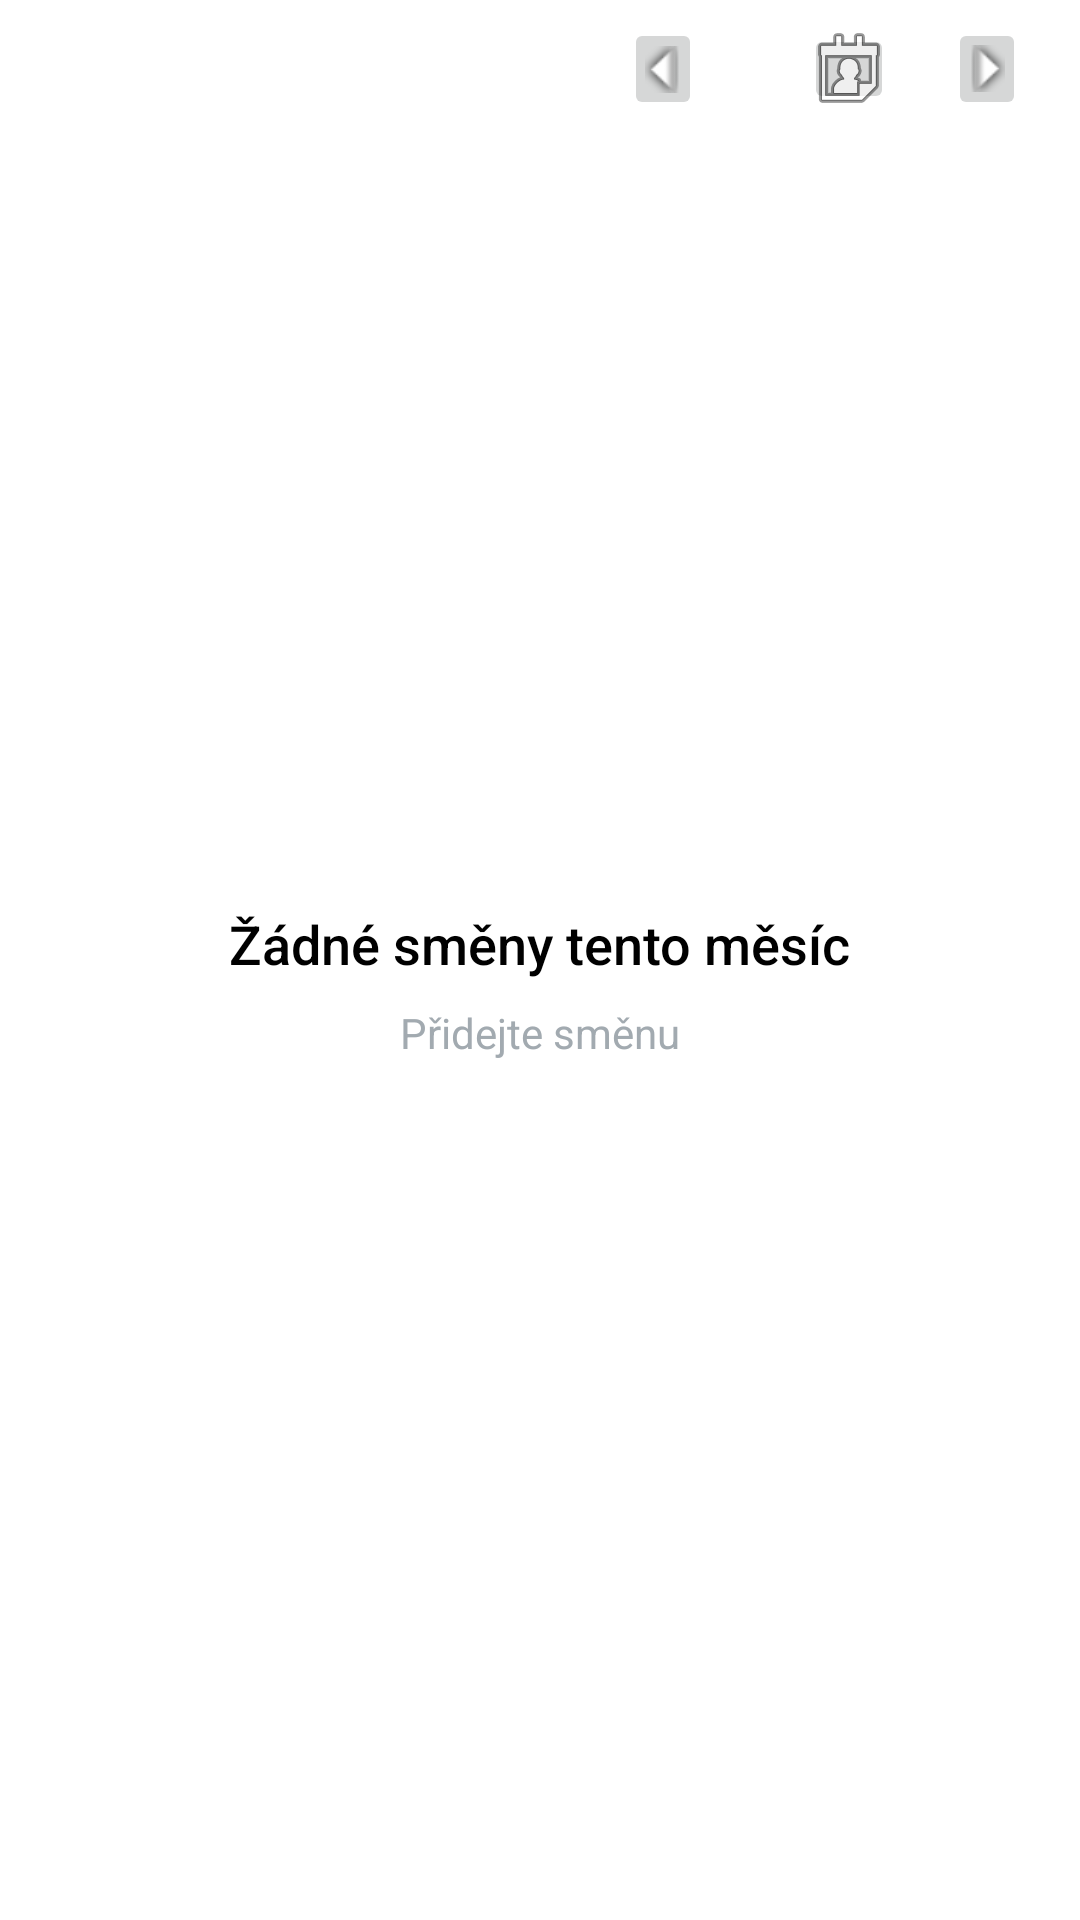

Icon click points for this 1080 x 1920 phone screenshot, format (x=x, y=y):
calendar: (x=849, y=68)
